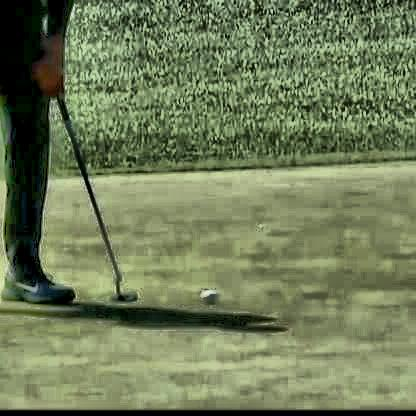golfball: (199, 284, 215, 302)
